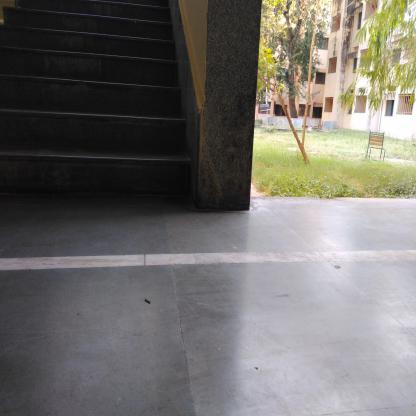stairs: (7, 5, 169, 213)
